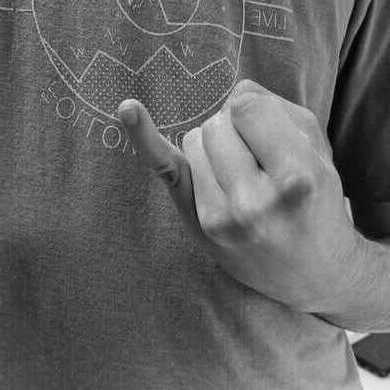I: (117, 79, 344, 310)
